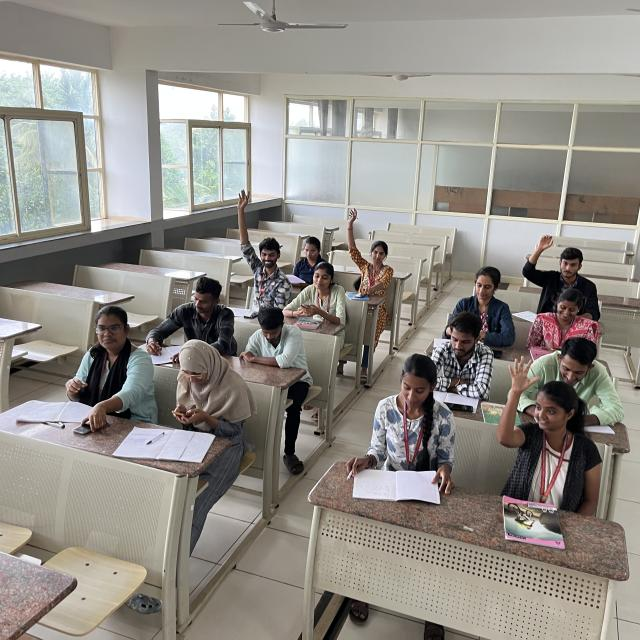Hand Rising: (498, 356, 596, 498), (223, 189, 288, 303), (342, 202, 416, 300), (522, 233, 603, 314)
Reading: (358, 356, 456, 506), (525, 341, 623, 433), (418, 318, 494, 400), (282, 226, 336, 284)
Using Phone: (170, 349, 266, 431), (526, 288, 602, 358), (291, 259, 354, 327)
Writing: (139, 266, 266, 364)
